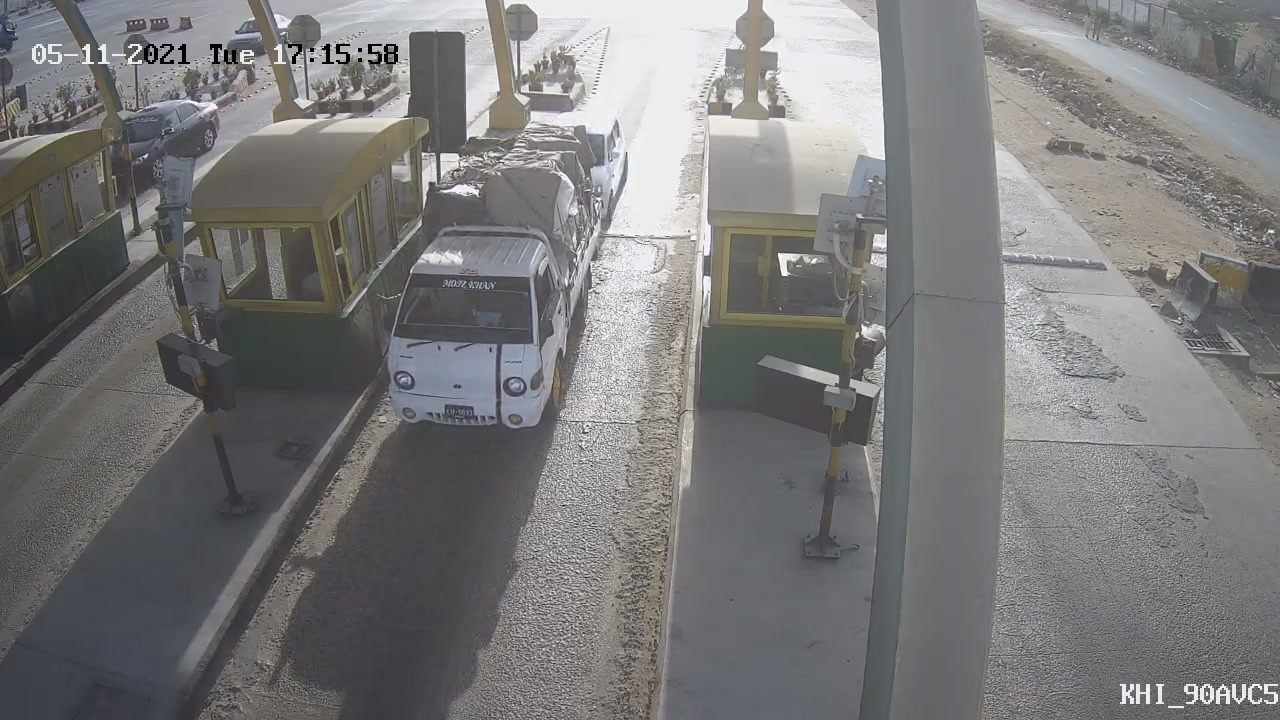F2: (340, 111, 624, 455)
